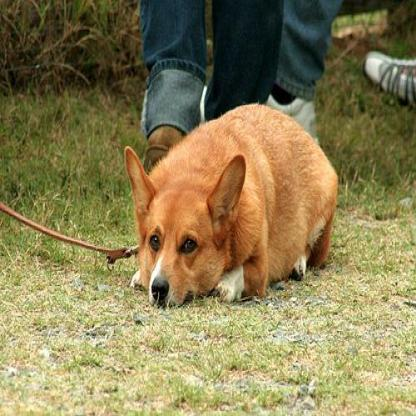Cardigan: (122, 100, 337, 306)
